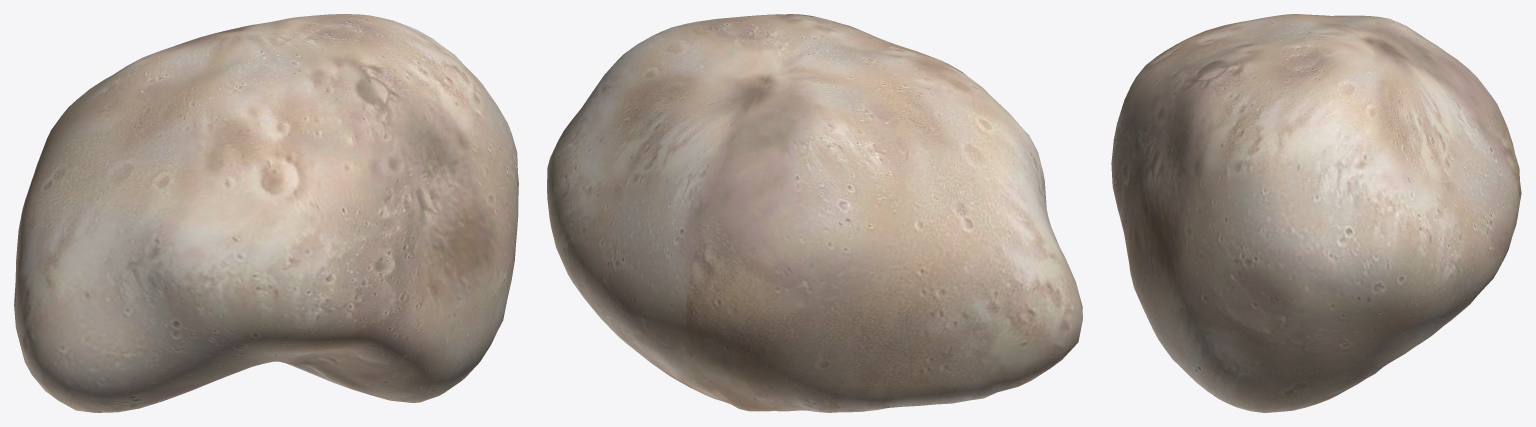
File: deimos.gltf
3 renders of one model, left to right at view 1: azimuth 30°, elevation 25°; view 2: azimuth 150°, elevation 25°; view 3: azimuth 270°, elevation 25°, orthographic. The views are drawn at different scales.
Parts seen in each view (by area): view 1: Deimos Thomas; view 2: Deimos Thomas; view 3: Deimos Thomas.
Boxes of the visible parts, x1,y1,x2,y2 form: Deimos Thomas: [14, 14, 518, 412]; Deimos Thomas: [547, 14, 1082, 412]; Deimos Thomas: [1111, 14, 1521, 412].
Size of the model in its own units: 16.01 by 11.06 by 12.65.
1 material, 1 textured.
